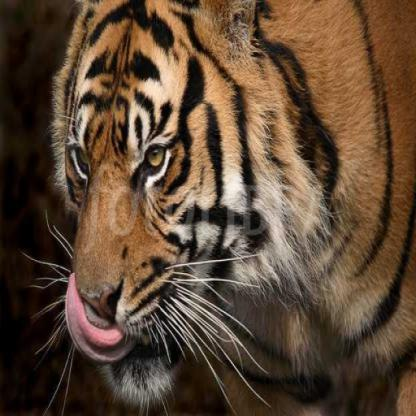Tiger: (51, 0, 415, 415)
